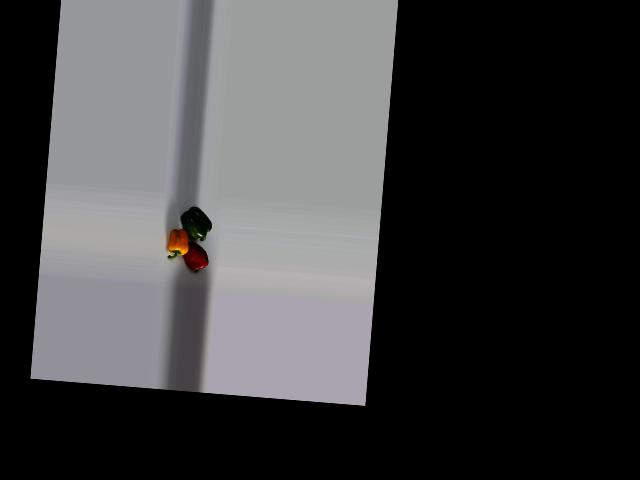bell_pepper: (164, 227, 194, 260)
